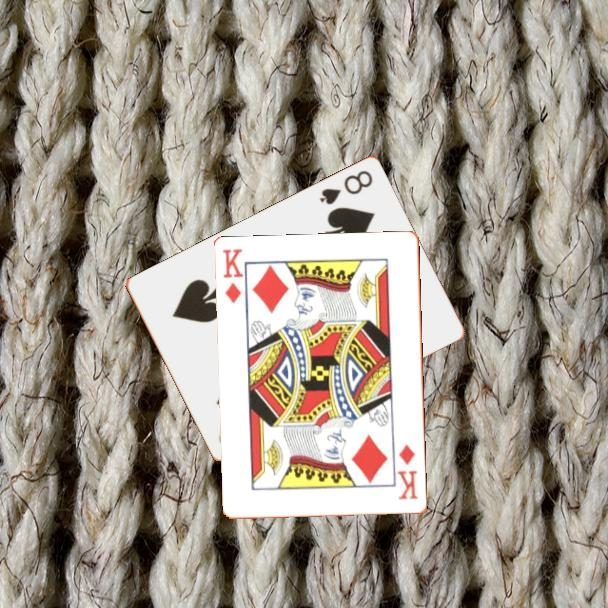d13: (394, 441, 421, 502), (219, 246, 246, 307)
s08: (316, 167, 376, 208)
